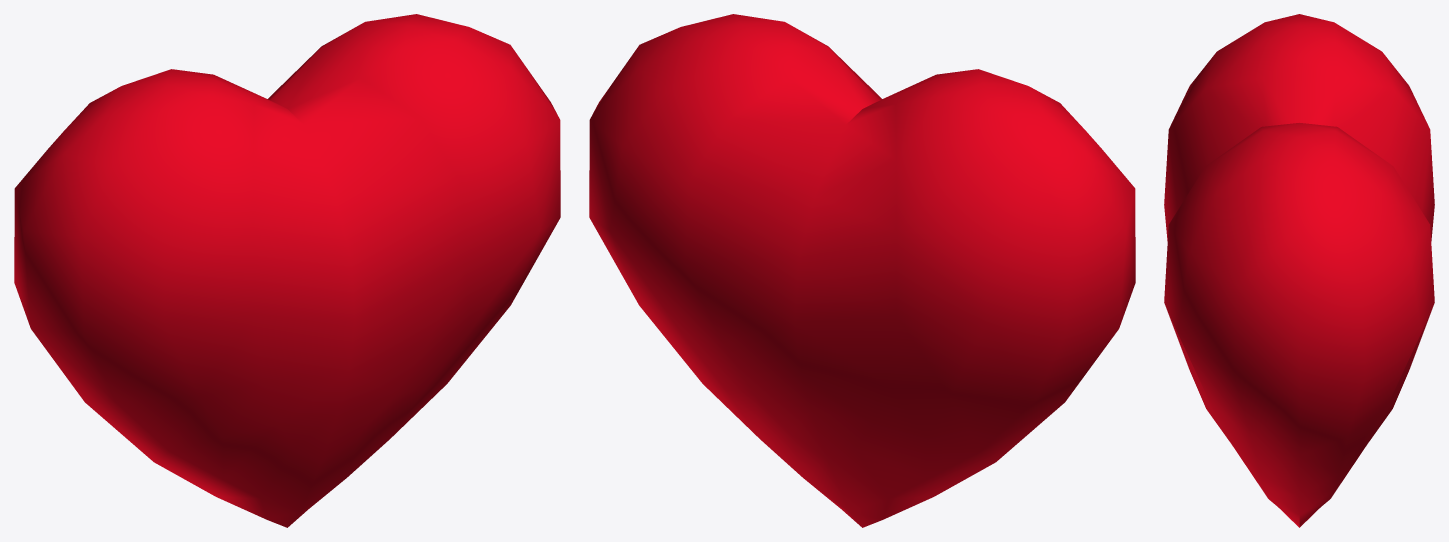
File: heart.glb
3 views of the same model, side by side, from view 1: azimuth 30°, elevation 25°; view 2: azimuth 150°, elevation 25°; view 3: azimuth 270°, elevation 25° (orthographic). The views are drawn at different scales.
Visible parts, largest first — view 1: Sphere; view 2: Sphere; view 3: Sphere.
Boxes of the visible parts, x1=… form: Sphere: x1=14, y1=14, x2=560, y2=527; Sphere: x1=589, y1=14, x2=1135, y2=527; Sphere: x1=1164, y1=14, x2=1434, y2=527.
Size of the model in its own units: 1.89 by 1.62 by 0.8918.
